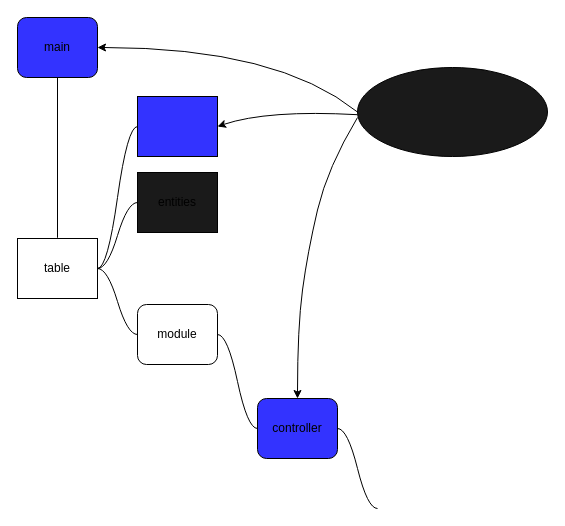
The diagram is 565 pixels wide and 526 high, and some of its shapes have lost their labels. Each missing label, with the centre of its shape:
dto: point 177,126
SWAGGER: point 452,111
